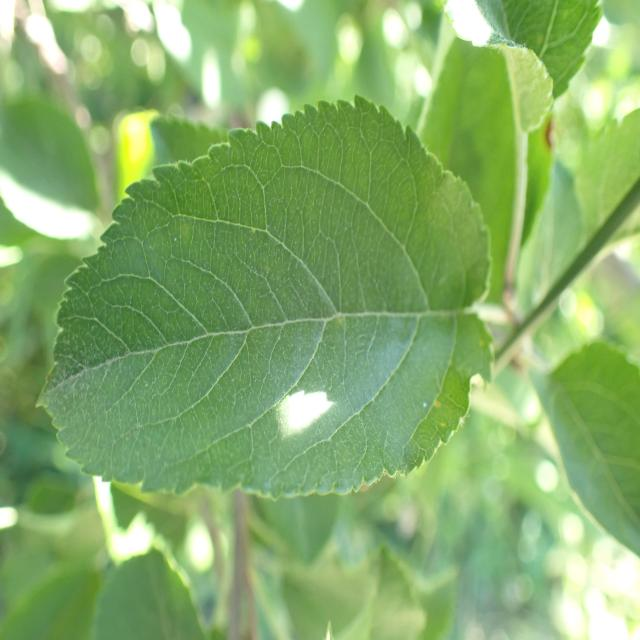healthy: (36, 94, 495, 500), (542, 339, 640, 558)
